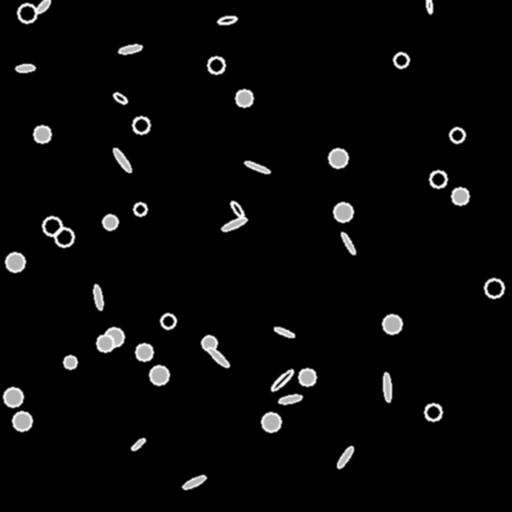pseudomonas: (269, 368, 295, 392), (206, 346, 230, 368), (112, 147, 132, 173), (335, 445, 355, 469), (181, 473, 207, 491), (221, 216, 247, 232), (340, 231, 356, 255), (244, 160, 270, 174), (229, 199, 245, 219), (92, 284, 104, 310), (382, 372, 392, 402), (278, 393, 302, 405), (118, 43, 142, 55), (274, 326, 294, 338), (130, 437, 146, 451), (35, 0, 51, 14), (112, 91, 128, 105), (217, 15, 237, 25), (16, 64, 34, 72), (425, 0, 433, 13)
synechocystis: (13, 412, 31, 430), (383, 315, 401, 333), (105, 328, 123, 346), (43, 217, 61, 235), (18, 4, 36, 22), (329, 149, 347, 167), (150, 366, 168, 384), (334, 203, 352, 221), (4, 388, 22, 406), (55, 228, 73, 246), (6, 253, 24, 271), (485, 279, 503, 297), (262, 413, 280, 431), (425, 404, 441, 420), (97, 335, 113, 351), (430, 171, 446, 187), (299, 369, 315, 385), (236, 90, 252, 106), (452, 188, 468, 204), (133, 117, 149, 133), (136, 344, 152, 360), (34, 126, 50, 142), (208, 57, 224, 73), (161, 314, 175, 328), (394, 53, 408, 67), (103, 215, 117, 229), (202, 336, 216, 350), (450, 128, 464, 142), (134, 203, 146, 215), (64, 356, 76, 368)
